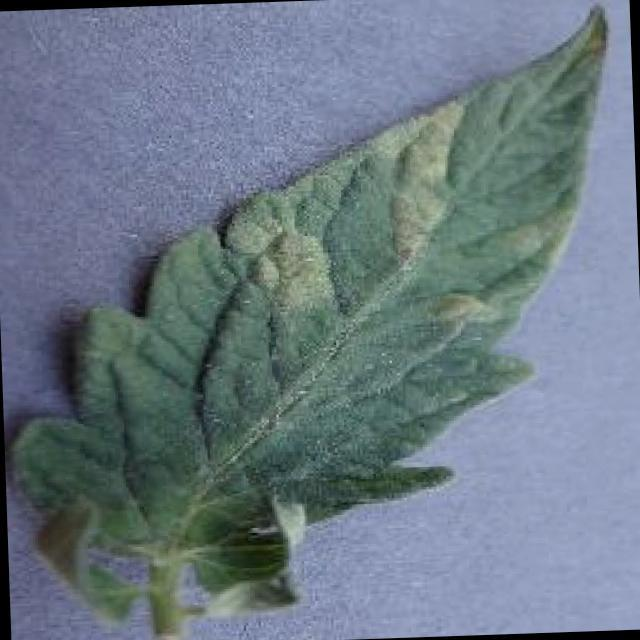Tomato mold leaf: (0, 1, 630, 626)
